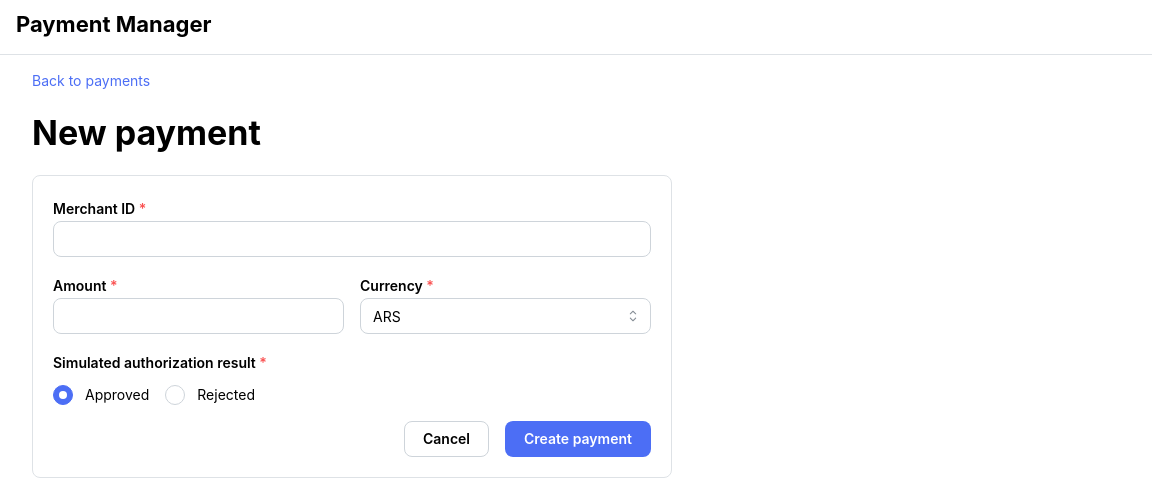
CreatePaymentPage › given a rejected simulation, when the payment is created, then notifies the rejection
The width and height of the screenshot is (1152, 495).
Type "merchant-001" into the field labelled "Merchant ID".
click(352, 239); type("merchant-001")  # box x1=53 y1=221 x2=651 y2=257
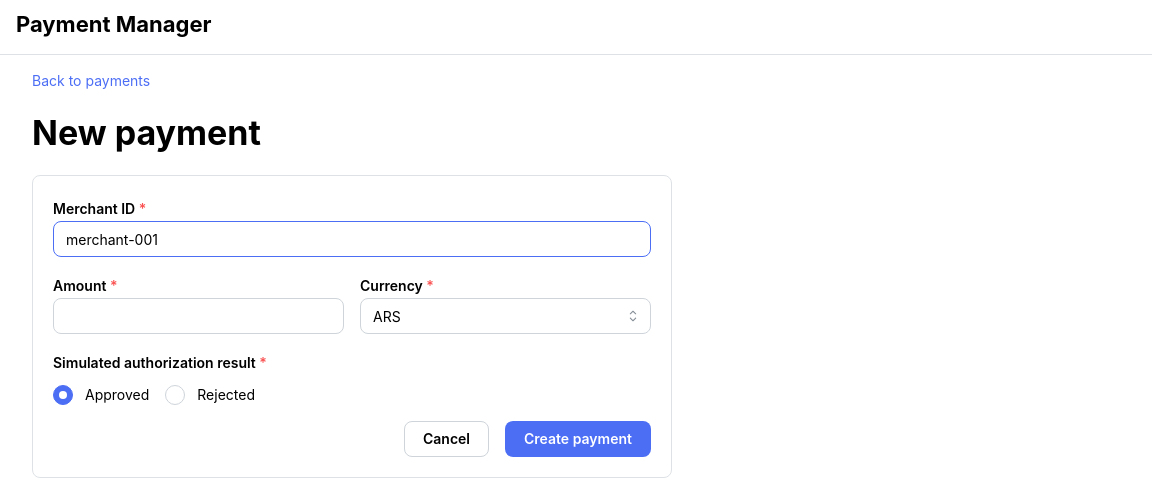
Type "1500.5" into the field labelled "Amount".
click(198, 316); type("1500.5")  # box x1=53 y1=298 x2=344 y2=334
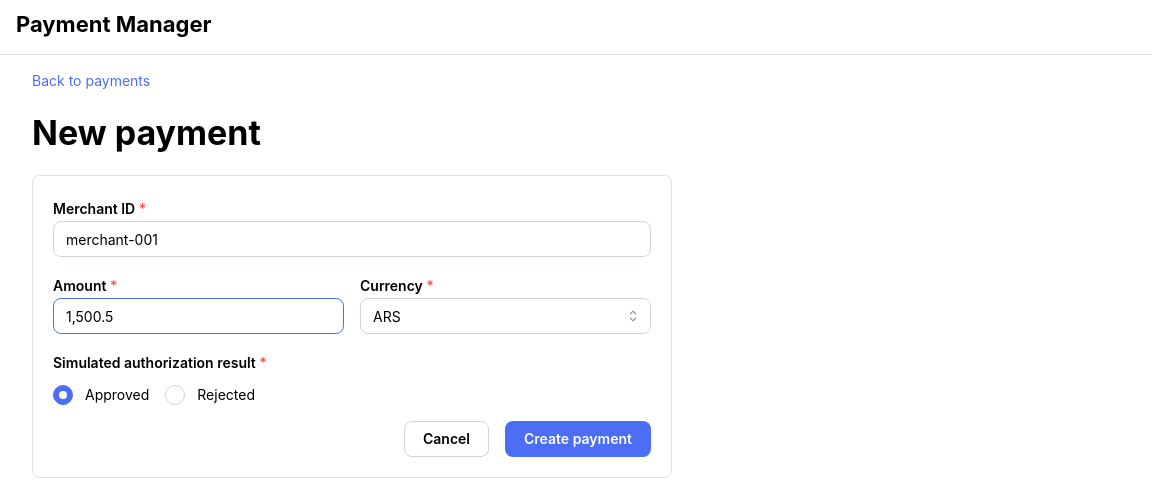
Click the radio button labelled "Rejected".
click(175, 395)  # box x1=165 y1=385 x2=185 y2=405
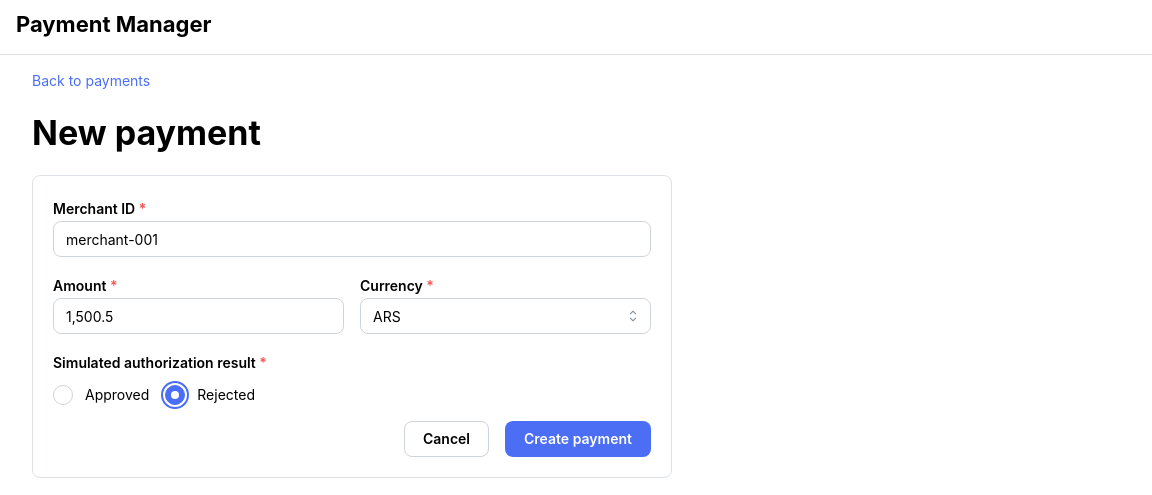
Click the button "Create payment".
click(578, 439)  # box x1=505 y1=421 x2=651 y2=457
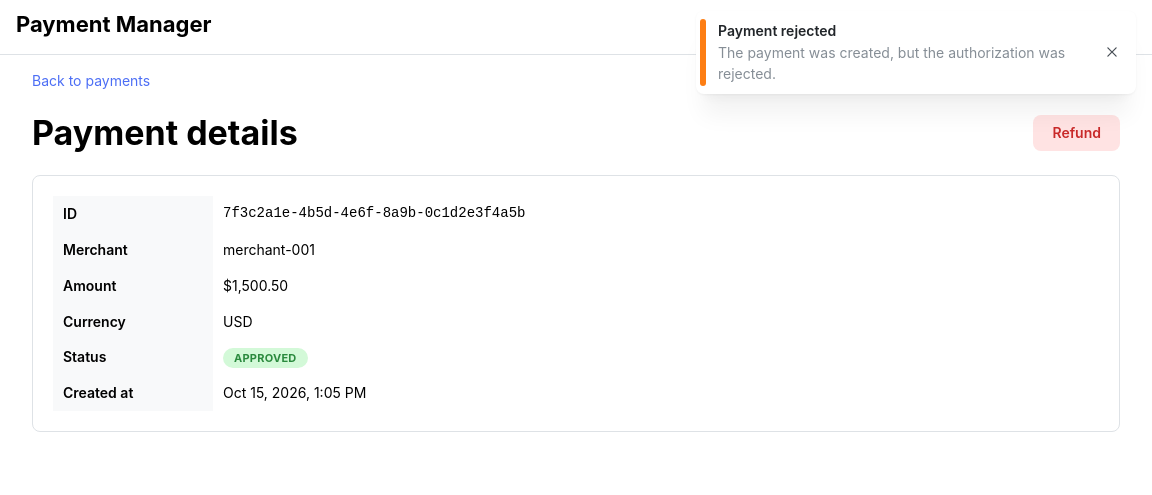
Expected: the text "Payment rejected" is shown, x1=718 y1=22 x2=836 y2=39
